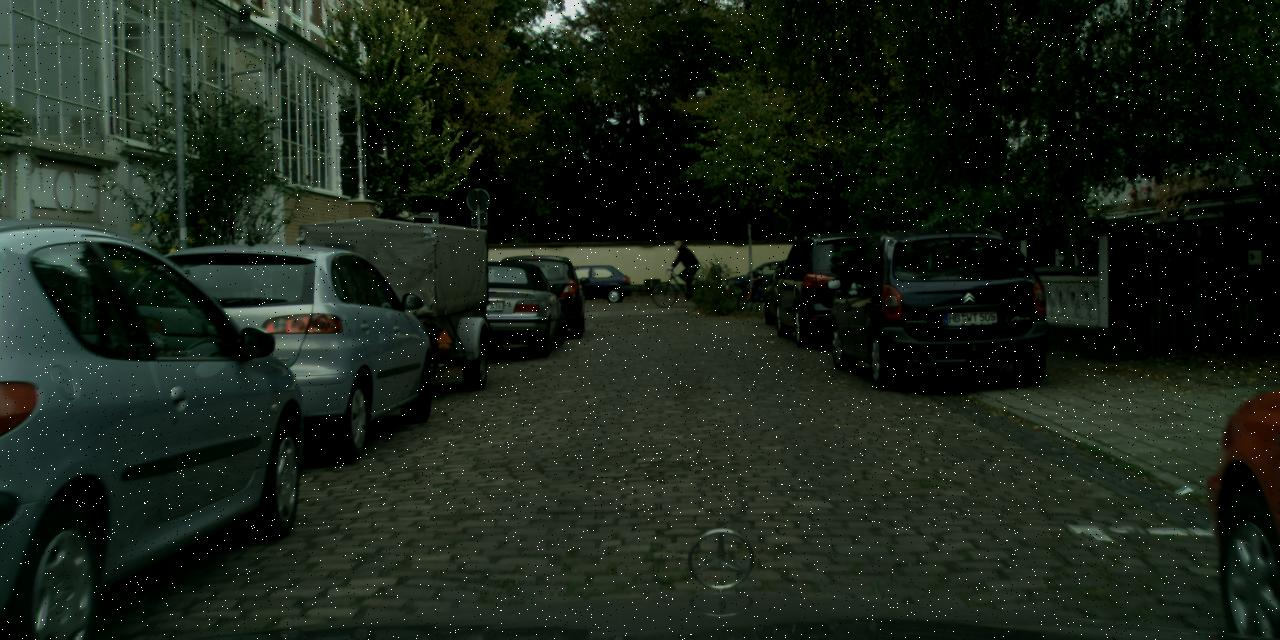ped: (672, 240, 693, 292)
